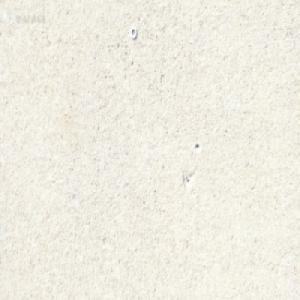Washer: (130, 25, 138, 38)
